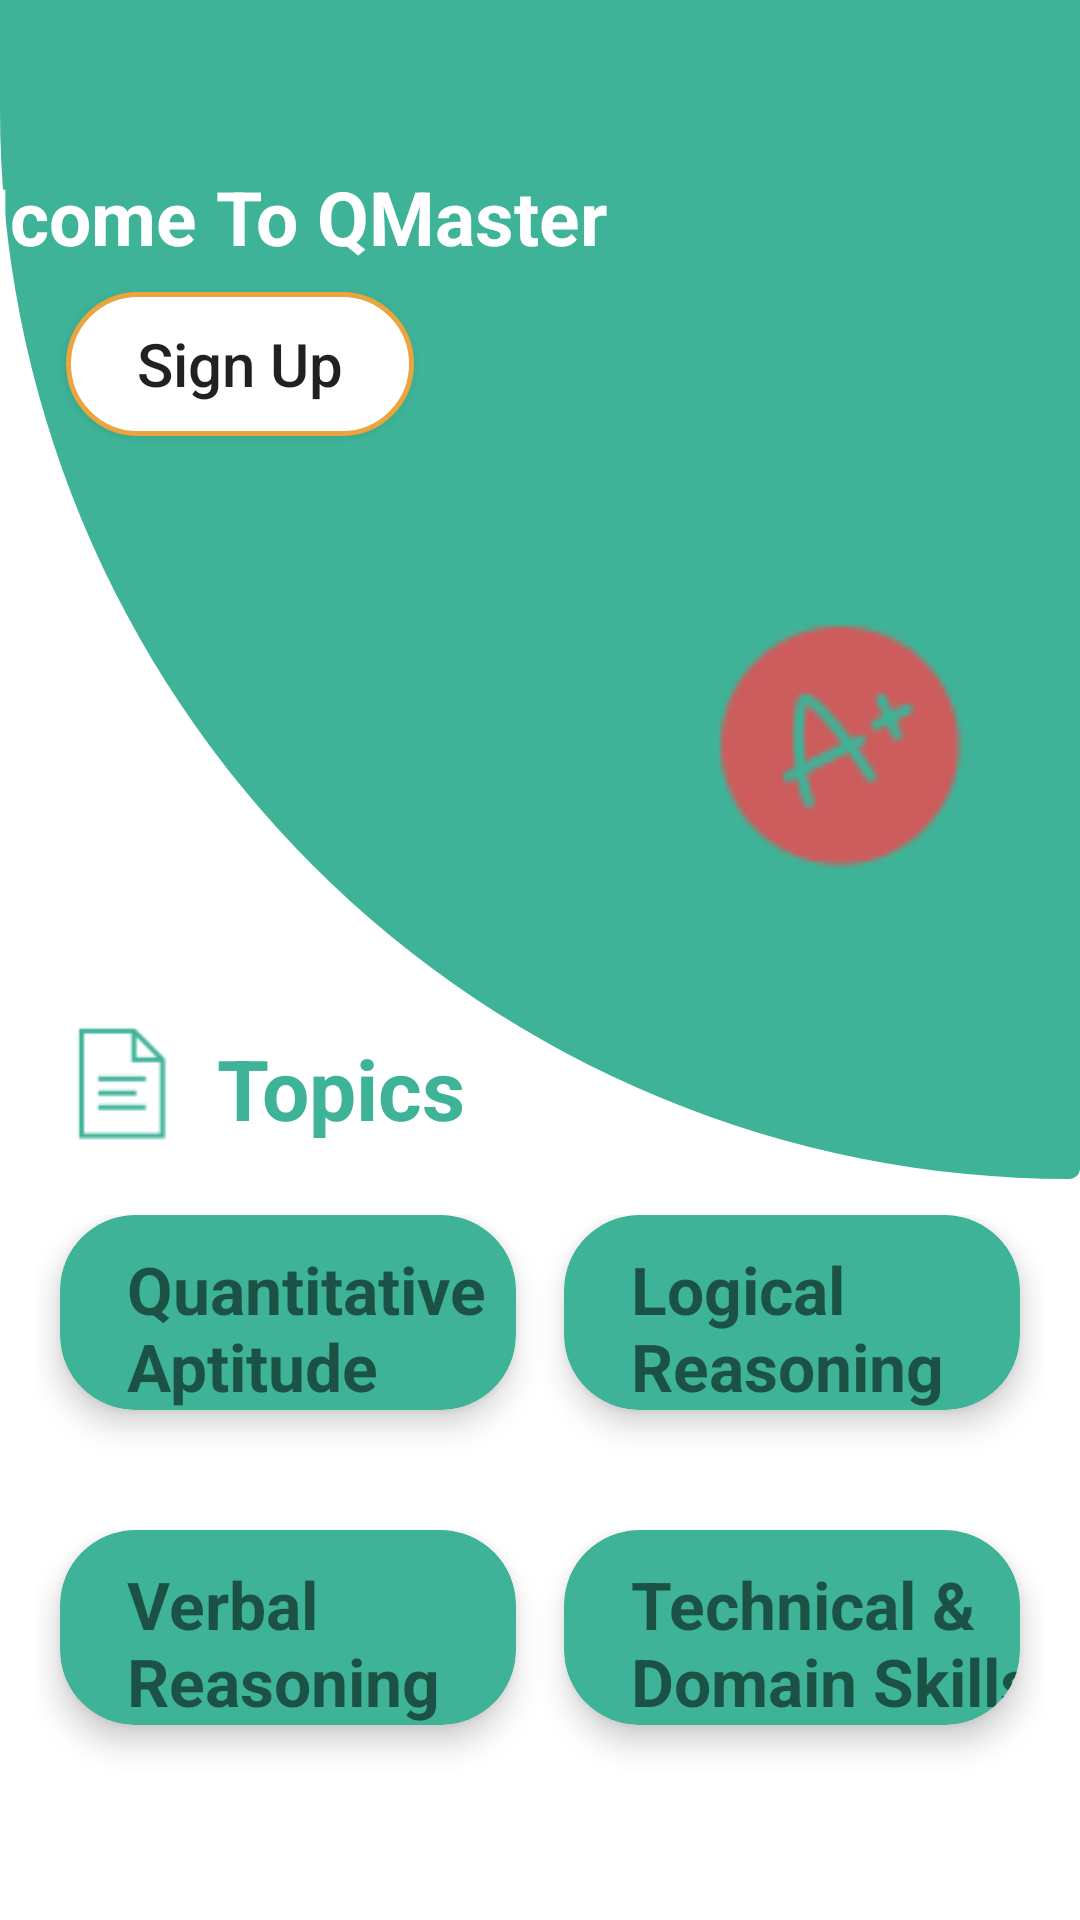

Point at icon controls on the screen. Image size 1080w x 1920h, points as (x,y).
document: (122,1084)
grades: (840,746)
